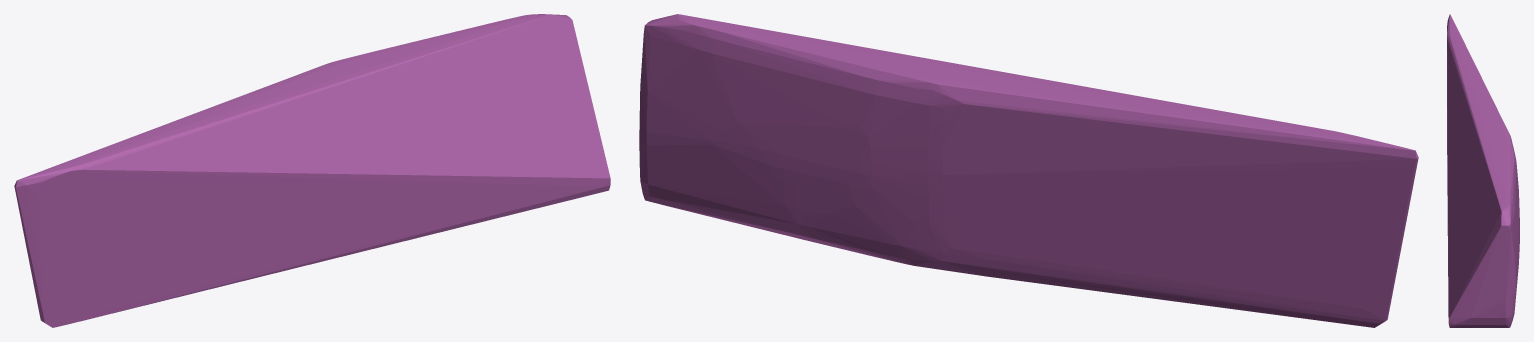
File: right-shin-0_part_7.obj
The picture shows the model from 3 angles, left to right: view 1: azimuth 30°, elevation 25°; view 2: azimuth 150°, elevation 25°; view 3: azimuth 270°, elevation 25°; orthographic projection. The views are drawn at different scales.
Bounding box in the file's own units: 0.1366 × 0.0338 × 0.0203.
